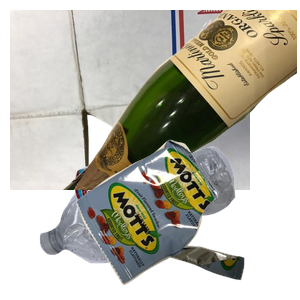cardboard: (10, 10, 250, 190)
glass: (60, 10, 300, 190)
plastic: (37, 144, 265, 300)
trash: (74, 137, 300, 300)
